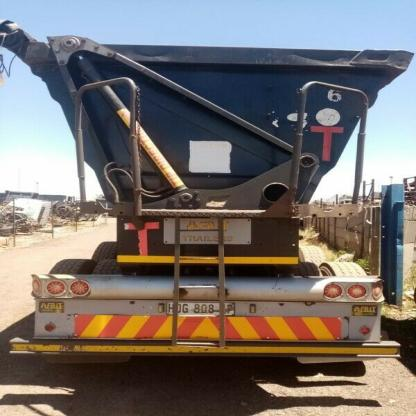dump_truck: (8, 17, 415, 376)
